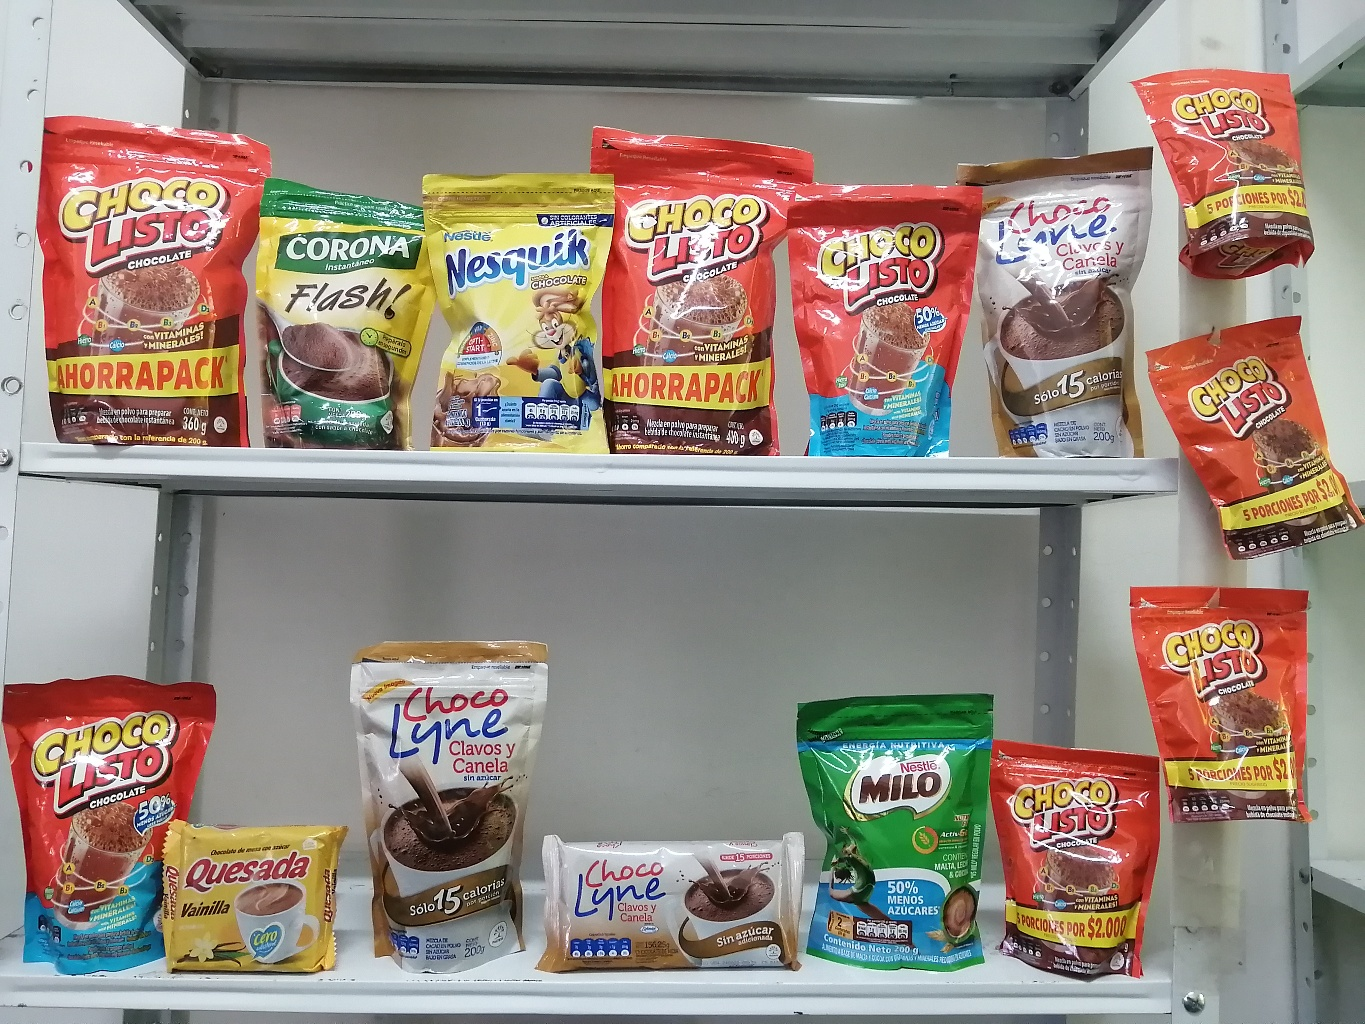COL0170103DYP10000: (1127, 46, 1332, 302)
COL0170103DYP36000: (34, 97, 266, 452)
COL0170103DYP40000: (594, 115, 813, 452)
COL0170104DYP20000: (799, 169, 968, 464)
COL0170205DYP20000: (799, 678, 1006, 982)
COL0170303DYP20000: (418, 159, 617, 443)
